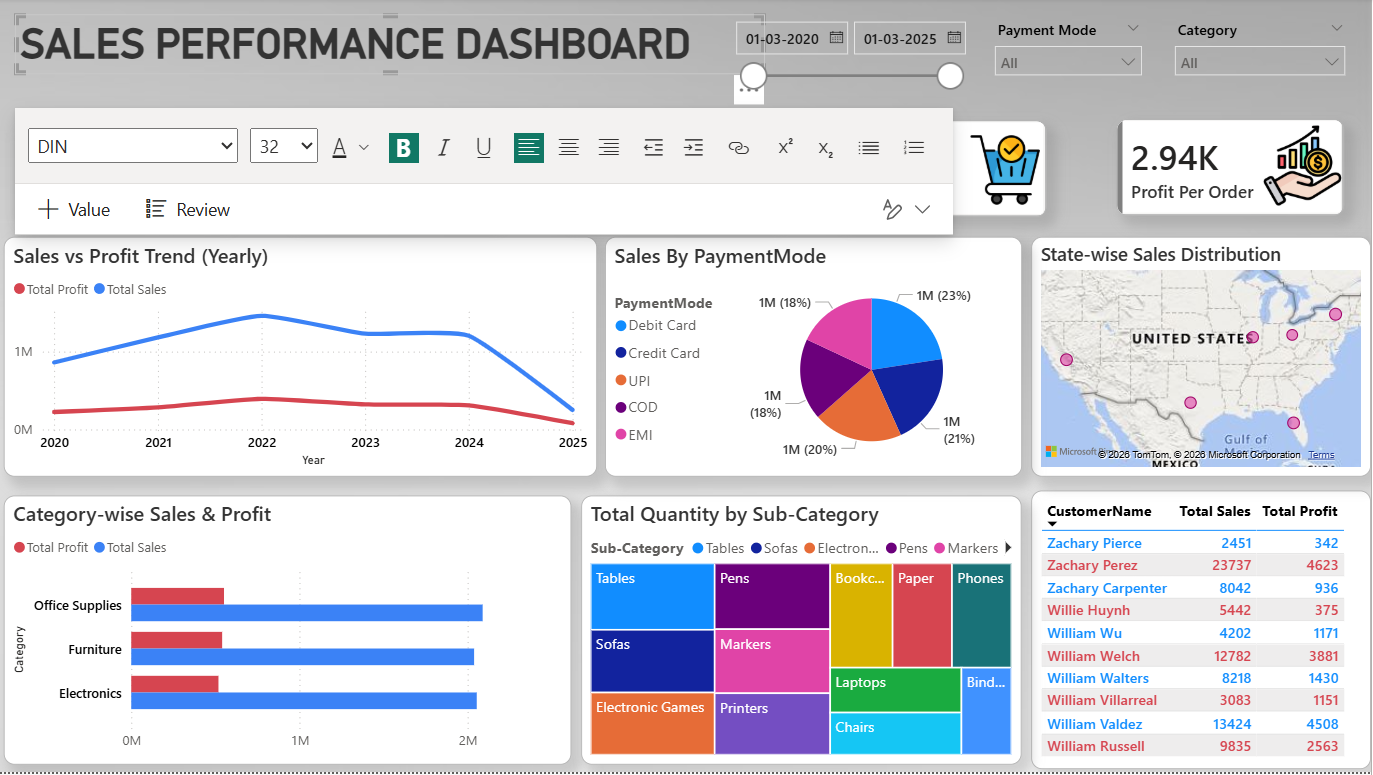

The dashboard page shown, as its layout file describes it:
{"tool":"powerbi","page":{"name":"Page 1","canvas":[1280,720],"ordinal":0},"visuals":[{"type":"shape","box":[0,0,1031.4,98.8],"z":0},{"type":"textbox","box":[18.6,15.1,697.7,55.8],"z":1000},{"type":"lineChart","title":"Sales vs Profit Trend (Yearly)","fields":{"Category":["Sales Dataset.Year-Month.Variation.Date Hierarchy.Year","Sales Dataset.Year-Month.Variation.Date Hierarchy.Month"],"Y":["Sales Dataset.Total Profit","Sales Dataset.Total Sales"]},"box":[8.1,222.1,552.3,223.3],"z":2000},{"type":"clusteredBarChart","title":"Category-wise Sales & Profit","fields":{"Y":["Sales Dataset.Total Profit","Sales Dataset.Total Sales"],"Category":["Sales Dataset.Category"]},"box":[8.1,462.8,527.9,250],"z":3000},{"type":"tableEx","fields":{"Values":["Sales Dataset.CustomerName","Sales Dataset.Total Sales","Sales Dataset.Total Profit"]},"box":[964,458.1,316.3,259.3],"z":4000},{"type":"treemap","fields":{"Values":["Sales Dataset.Total Quantity"],"Group":["Sales Dataset.Sub-Category"]},"box":[545.4,462.8,409.3,250],"z":5000},{"type":"map","title":"State-wise Sales Distribution","fields":{"Category":["Sales Dataset.State"],"Size":["Sales Dataset.Total Sales"]},"box":[964,222.1,316.3,223.3],"z":6000},{"type":"pieChart","title":"Sales By PaymentMode","fields":{"Category":["Sales Dataset.PaymentMode"],"Y":["Sales Dataset.Total Sales"]},"box":[567.4,222.1,388.4,223.3],"z":7000},{"type":"cardVisual","fields":{"Data":["Sales Dataset.Total Quantity"]},"box":[527.9,114,196.5,89.5],"z":8000},{"type":"cardVisual","fields":{"Data":["Sales Dataset.Total Profit"]},"box":[268.6,114,196.5,89.5],"z":9000},{"type":"cardVisual","fields":{"Data":["Sales Dataset.Total Orders"]},"box":[781.4,114,196.5,89.5],"z":10000},{"type":"cardVisual","fields":{"Data":["Sales Dataset.Profit Per Order"]},"box":[1043,112.8,211.6,89.5],"z":11000},{"type":"image","box":[358.1,124.4,141.9,69.8],"z":12000},{"type":"image","box":[634.9,123.3,103.5,70.9],"z":13000},{"type":"image","box":[847.7,125.6,183.7,68.6],"z":14000},{"type":"image","box":[1154.7,117.4,123.3,76.7],"z":15000},{"type":"cardVisual","fields":{"Data":["Sales Dataset.Total Sales"]},"box":[18.6,114,196.5,89.5],"z":16000},{"type":"image","box":[100,124.4,136,79.1],"z":17000},{"type":"slicer","fields":{"Values":["Sales Dataset.Year-Month"]},"box":[676.7,11.6,232.6,75.6],"z":18000},{"type":"slicer","fields":{"Values":["Sales Dataset.PaymentMode"]},"box":[919.8,15.1,157,70.9],"z":19000},{"type":"slicer","fields":{"Values":["Sales Dataset.Category"]},"box":[1087.2,15.1,179.1,115.1],"z":20000}]}

Visuals, with their boxes in screenshot pixels (x1, y1, x2, y2):
shape: region(32, 36, 1085, 137)
textbox: region(51, 51, 763, 108)
"Sales vs Profit Trend (Yearly)" lineChart: region(40, 262, 604, 490)
"Category-wise Sales & Profit" clusteredBarChart: region(40, 508, 579, 763)
tableEx - Sales Dataset.CustomerName x Sales Dataset.Total Sales: region(1016, 503, 1339, 768)
treemap - Sales Dataset.Total Quantity x Sales Dataset.Sub-Category: region(589, 508, 1006, 763)
"State-wise Sales Distribution" map: region(1016, 262, 1339, 490)
"Sales By PaymentMode" pieChart: region(611, 262, 1007, 490)
cardVisual - Sales Dataset.Total Quantity: region(571, 152, 771, 243)
cardVisual - Sales Dataset.Total Profit: region(306, 152, 507, 243)
cardVisual - Sales Dataset.Total Orders: region(829, 152, 1030, 243)
cardVisual - Sales Dataset.Profit Per Order: region(1096, 151, 1312, 242)
image: region(398, 163, 542, 234)
image: region(680, 162, 786, 234)
image: region(897, 164, 1085, 234)
image: region(1210, 156, 1336, 234)
cardVisual - Sales Dataset.Total Sales: region(51, 152, 252, 243)
image: region(134, 163, 273, 243)
slicer - Sales Dataset.Year-Month: region(723, 48, 960, 125)
slicer - Sales Dataset.PaymentMode: region(971, 51, 1131, 124)
slicer - Sales Dataset.Category: region(1141, 51, 1324, 169)
